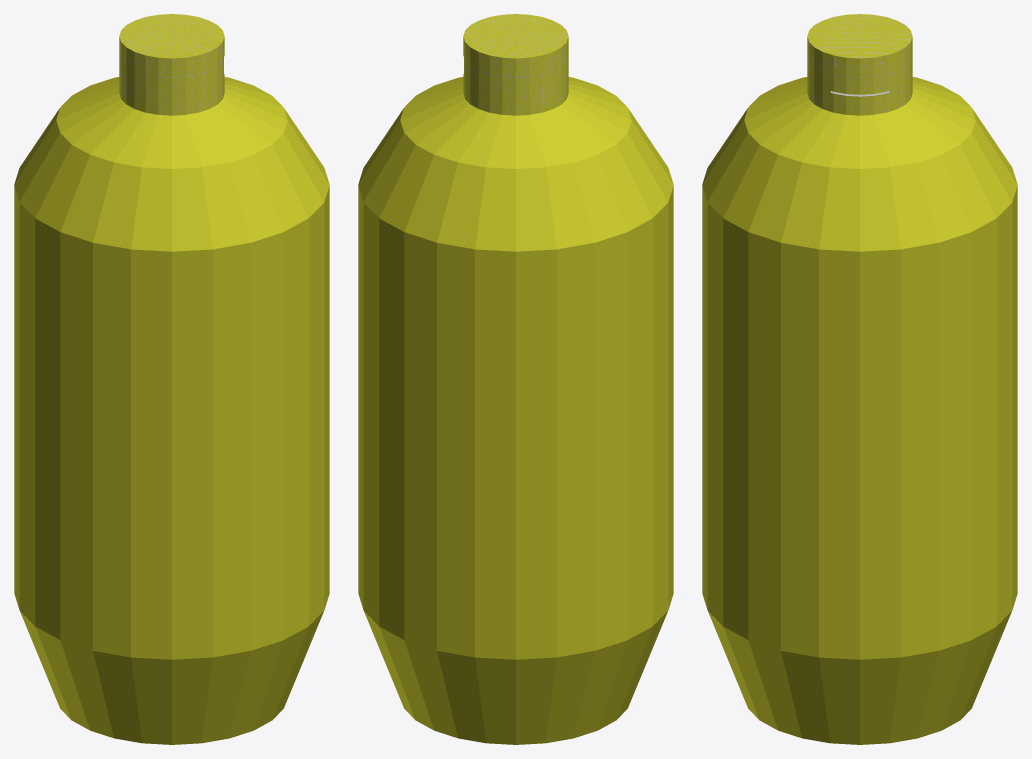
3 views of the same model, side by side, from view 1: azimuth 30°, elevation 25°; view 2: azimuth 150°, elevation 25°; view 3: azimuth 270°, elevation 25° (orthographic).
Visible parts, largest first — view 1: mesh1_mesh1-geometry, mesh7_mesh7-geometry; view 2: mesh1_mesh1-geometry, mesh7_mesh7-geometry; view 3: mesh1_mesh1-geometry, mesh7_mesh7-geometry.
Part boxes in pixels (left/top/right/bottom): mesh1_mesh1-geometry: left=14, top=77, right=329, bottom=744; mesh7_mesh7-geometry: left=119, top=14, right=224, bottom=115; mesh1_mesh1-geometry: left=358, top=77, right=673, bottom=744; mesh7_mesh7-geometry: left=463, top=14, right=568, bottom=115; mesh1_mesh1-geometry: left=702, top=77, right=1017, bottom=744; mesh7_mesh7-geometry: left=807, top=14, right=912, bottom=115.
Bounding box in the file's own units: 0.3696 × 0.8525 × 0.3696.
